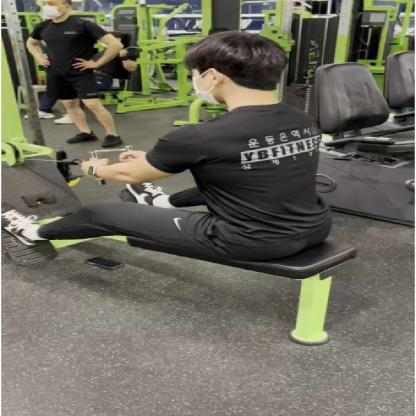Seated Cable Rows: (0, 29, 371, 351)
